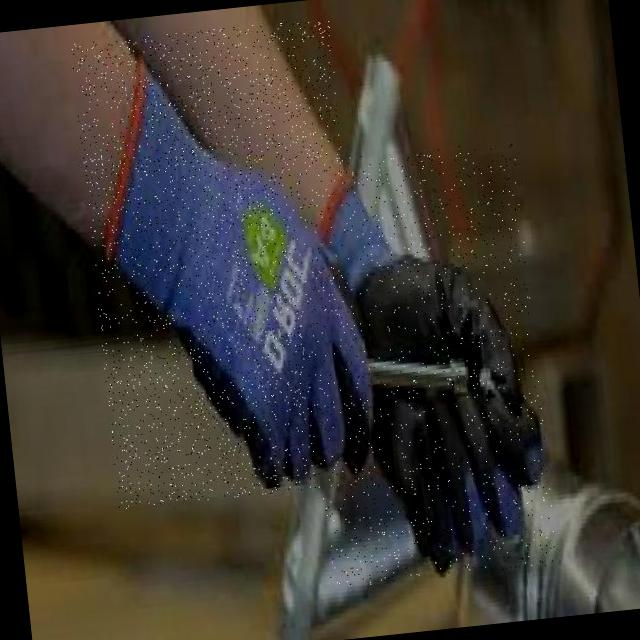gloves: (75, 44, 384, 507), (307, 146, 553, 586)
